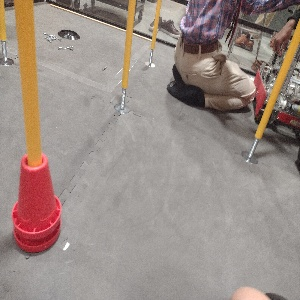Red_2: (9, 152, 62, 252)
